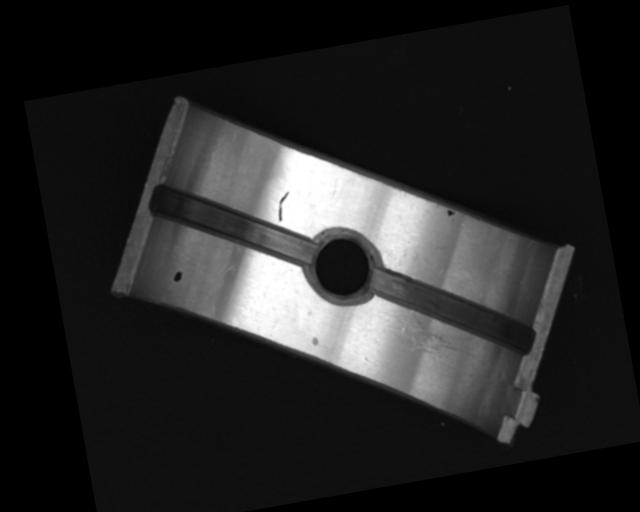blot: (170, 269, 184, 283), (445, 207, 456, 217)
bruise: (310, 333, 320, 346)
gap: (368, 243, 535, 378), (153, 163, 314, 290)
hole: (302, 223, 384, 307)
nick: (273, 191, 293, 223)
scratch: (398, 300, 478, 371)
